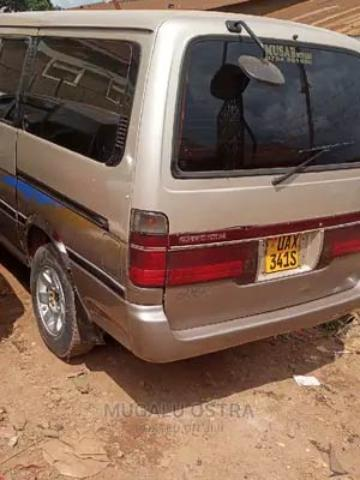van: (0, 10, 358, 359)
